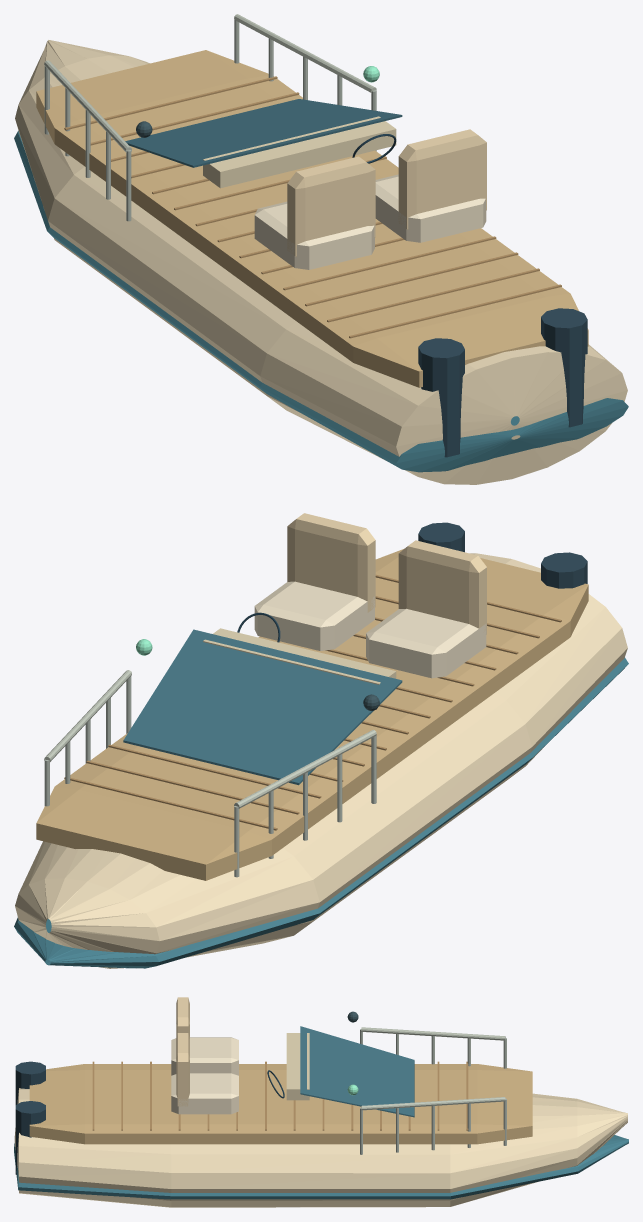
The model's file is speedboat.glb.
3 views of the same model, one above another, from view 1: azimuth 30°, elevation 25°; view 2: azimuth 150°, elevation 25°; view 3: azimuth 270°, elevation 25° (orthographic). The views are drawn at different scales.
Visible parts, largest first — view 1: speedboat; view 2: speedboat; view 3: speedboat.
Part boxes in pixels (left/top/right/bottom): speedboat: left=14, top=14, right=628, bottom=484; speedboat: left=14, top=513, right=628, bottom=968; speedboat: left=14, top=997, right=628, bottom=1207.
Bounding box in the file's own units: 2.45 × 2.16 × 7.27.
